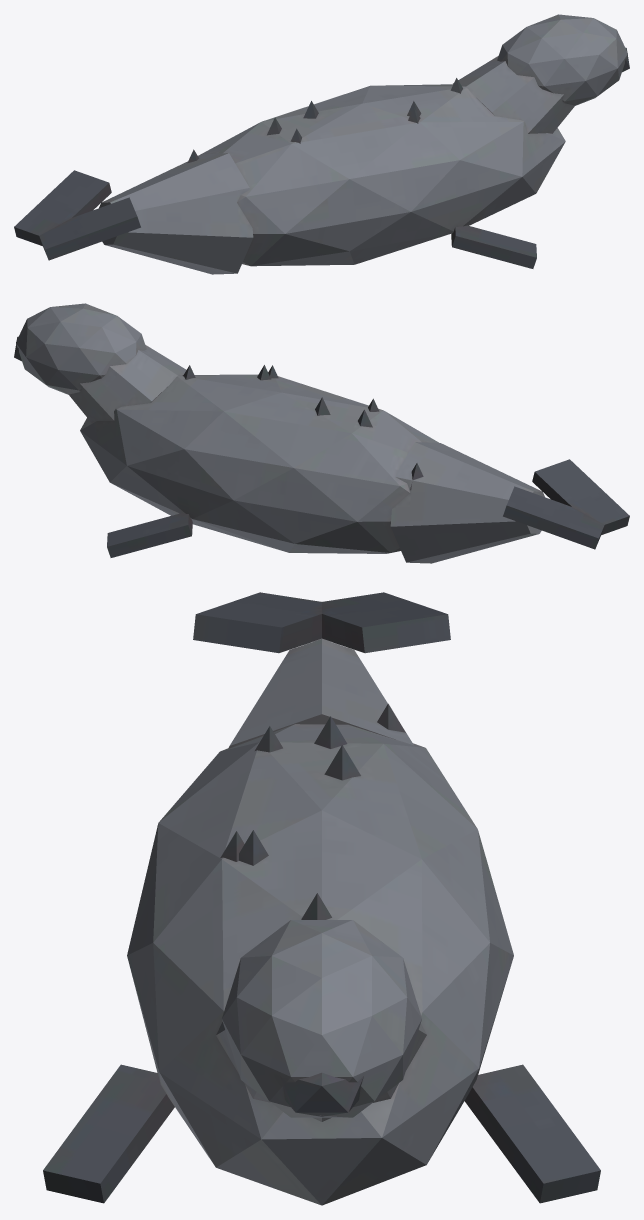
File: sal_tex.glb
3 views of the same model, one above another, from view 1: azimuth 30°, elevation 25°; view 2: azimuth 150°, elevation 25°; view 3: azimuth 270°, elevation 25° (orthographic). The views are drawn at different scales.
Parts seen in each view (by area): view 1: sal; view 2: sal; view 3: sal.
Part boxes in pixels (bbox=[...]): sal: bbox=[14, 14, 629, 274]; sal: bbox=[14, 303, 629, 563]; sal: bbox=[43, 592, 600, 1205].
Size of the model in its own units: 2.11 by 0.6213 by 0.8525.
3 materials, 2 textured.
